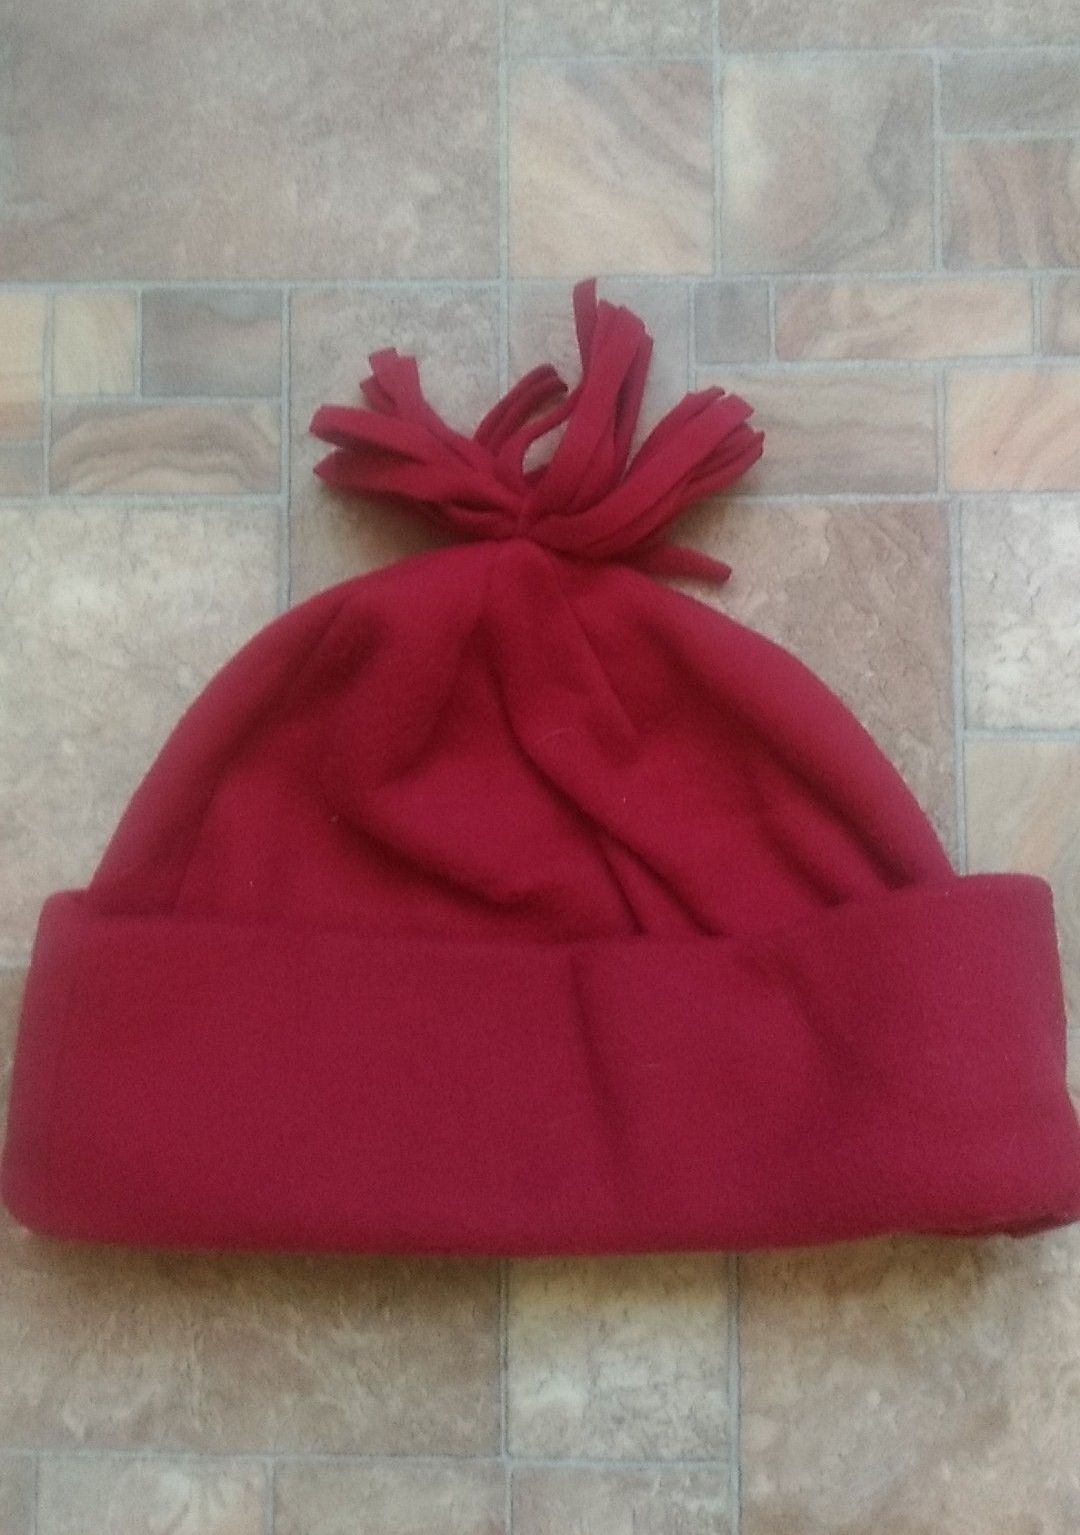clothes: (29, 281, 1079, 1273)
